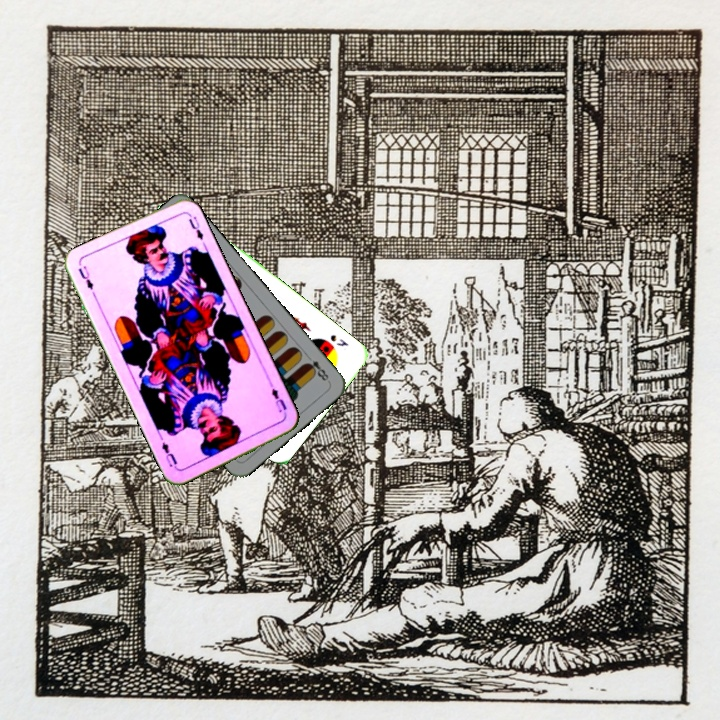E8: (301, 350, 331, 383)
EU: (266, 379, 289, 418), (74, 262, 96, 293)
SK: (326, 330, 351, 349)
